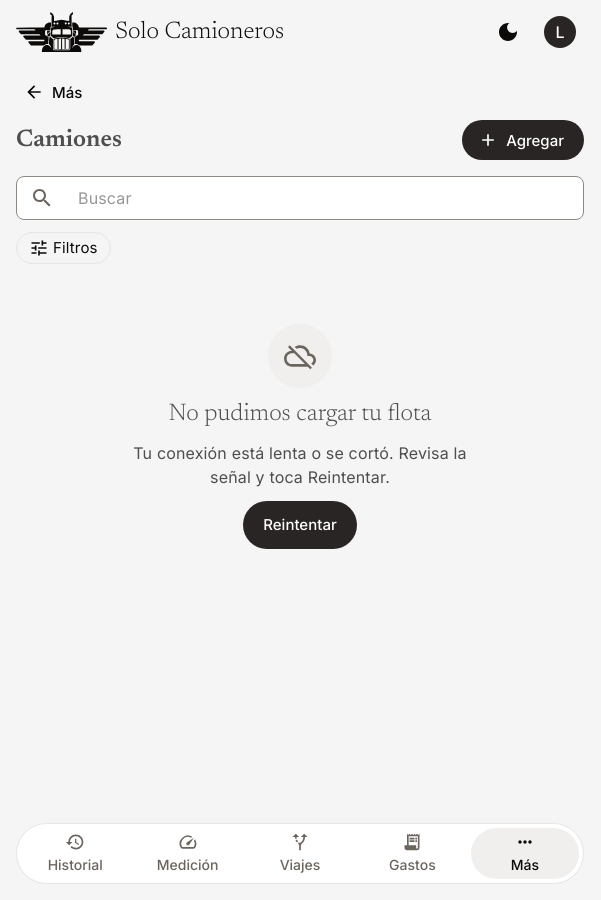
a failed load can be retried
Step 1. Click the button "Reintentar" → (300, 525), box [243,501,357,549]
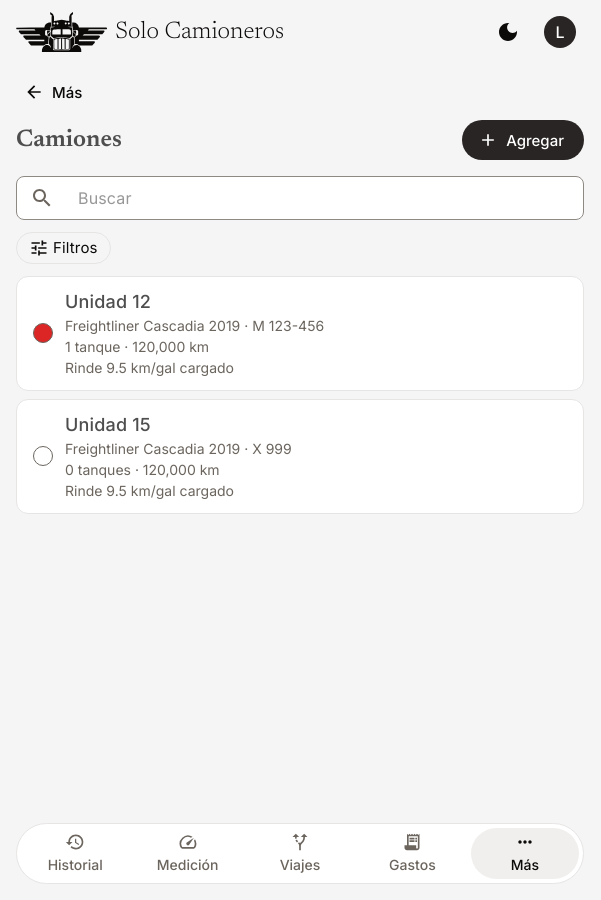
Expected: the button with aria-label "Camión Unidad 12" is shown, [16,276,584,391]
